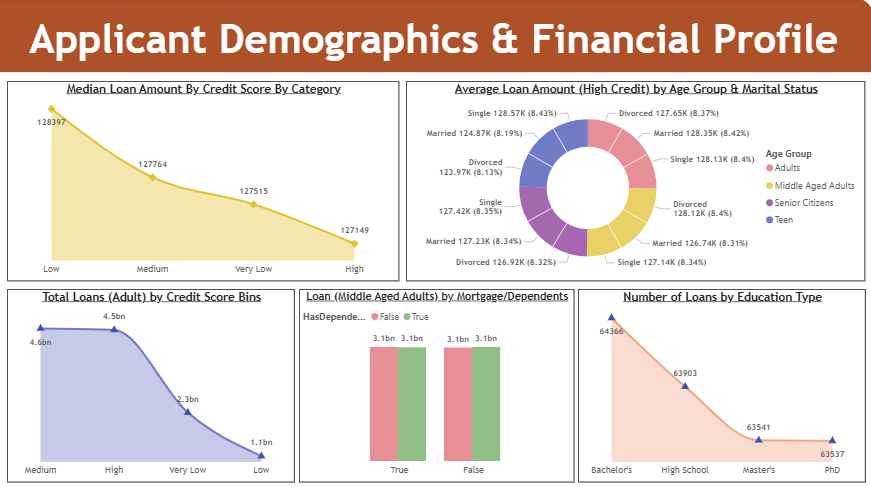

The dashboard page shown, as its layout file describes it:
{"tool":"powerbi","page":{"name":"Applicant Demographics & Financial Profile","canvas":[1280,720],"ordinal":1},"visuals":[{"type":"shape","box":[0,0,1280,109.2],"z":0},{"type":"lineChart","title":"Median Loan Amount By Credit Score By Category","fields":{"Category":["Loan_default.Credit Score Bins"],"Y":["Measures Table 2.Median By Credit Score Bins"]},"box":[11.8,122.1,573.8,292.8],"z":1000},{"type":"donutChart","title":"Average Loan Amount (High Credit) by Age Group & Marital Status","fields":{"Y":["Measures Table 2.Average Loan Amt (High Credit)"],"Series":["Loan_default.MaritalStatus"],"Category":["Loan_default.Age Group"]},"box":[595.9,122.1,672.4,292.8],"z":2000},{"type":"lineChart","title":"Total Loans (Adult) by Credit Score Bins","fields":{"Category":["Loan_default.Credit Score Bins"],"Y":["Measures Table 2.Total Loan (Credit Bins)"]},"box":[11,426.1,421.4,283],"z":3000},{"type":"clusteredColumnChart","title":"Loan (Middle Aged Adults) by Mortgage/Dependents","fields":{"Y":["Measures Table 2.Total Loans (Middle Age Adults)"],"Category":["Loan_default.HasMortgage"],"Series":["Loan_default.HasDependents"]},"box":[438.7,426.1,402.6,283],"z":4000},{"type":"lineChart","title":"Number of Loans by Education Type","fields":{"Y":["Measures Table 2.Loan By Education Type"],"Category":["Loan_default.Education"]},"box":[847.6,426.1,421.4,283],"z":5000}]}

Visuals, with their boxes in screenshot pixels (x1, y1, x2, y2), scaled from the page's 1280x720 canvas onto the 871x487 screenshot:
shape: pyautogui.locateOnScreen(0, 0, 870, 74)
"Median Loan Amount By Credit Score By Category" lineChart: pyautogui.locateOnScreen(8, 83, 398, 281)
"Average Loan Amount (High Credit) by Age Group & Marital Status" donutChart: pyautogui.locateOnScreen(405, 83, 863, 281)
"Total Loans (Adult) by Credit Score Bins" lineChart: pyautogui.locateOnScreen(7, 288, 294, 480)
"Loan (Middle Aged Adults) by Mortgage/Dependents" clusteredColumnChart: pyautogui.locateOnScreen(299, 288, 572, 480)
"Number of Loans by Education Type" lineChart: pyautogui.locateOnScreen(577, 288, 864, 480)
